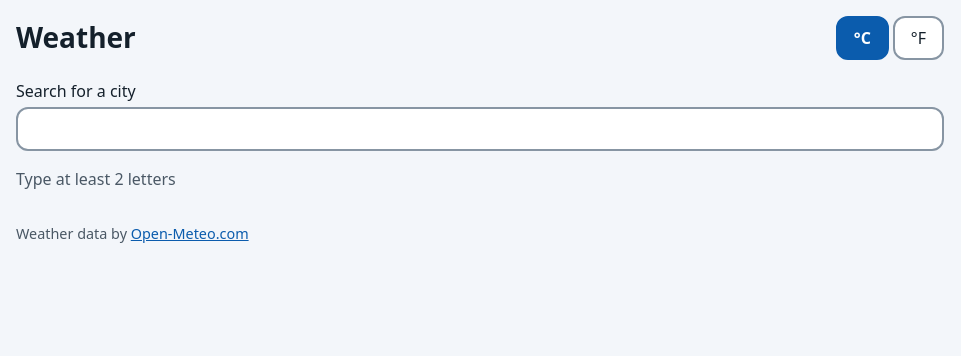
Test: errors › shows the network message for a search and retries
In the search field labelled "Search for a city": coordinates (480, 129) 16,107 -> 944,151, type "Tokyo"
Wait 400 ms
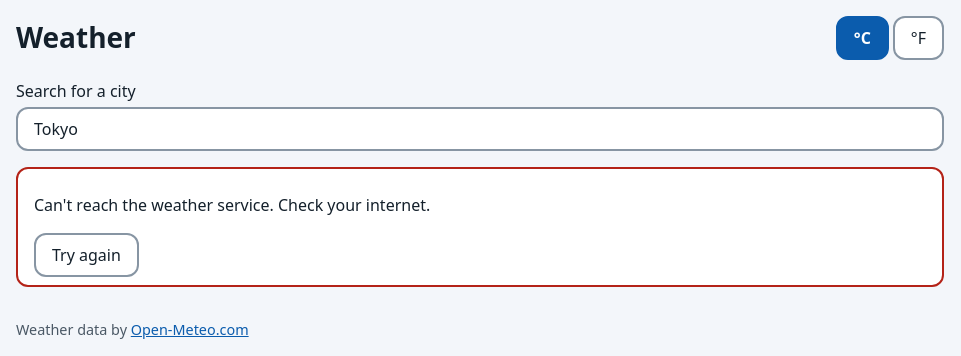
Expected: the text "Can't reach the weather service. Check your internet." is shown, 34,194 -> 430,216
Click the button "Try again": coordinates (86, 255) 34,233 -> 139,277
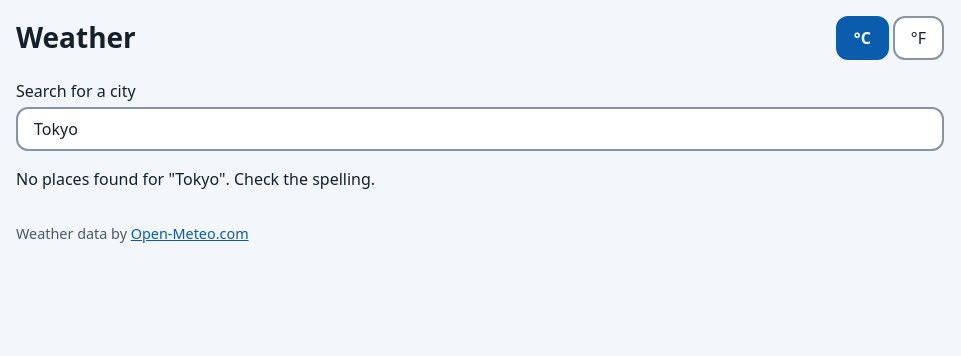
Expected: the text "No places found for \"Tokyo\". Check the spelling." is shown, 16,168 -> 375,190
